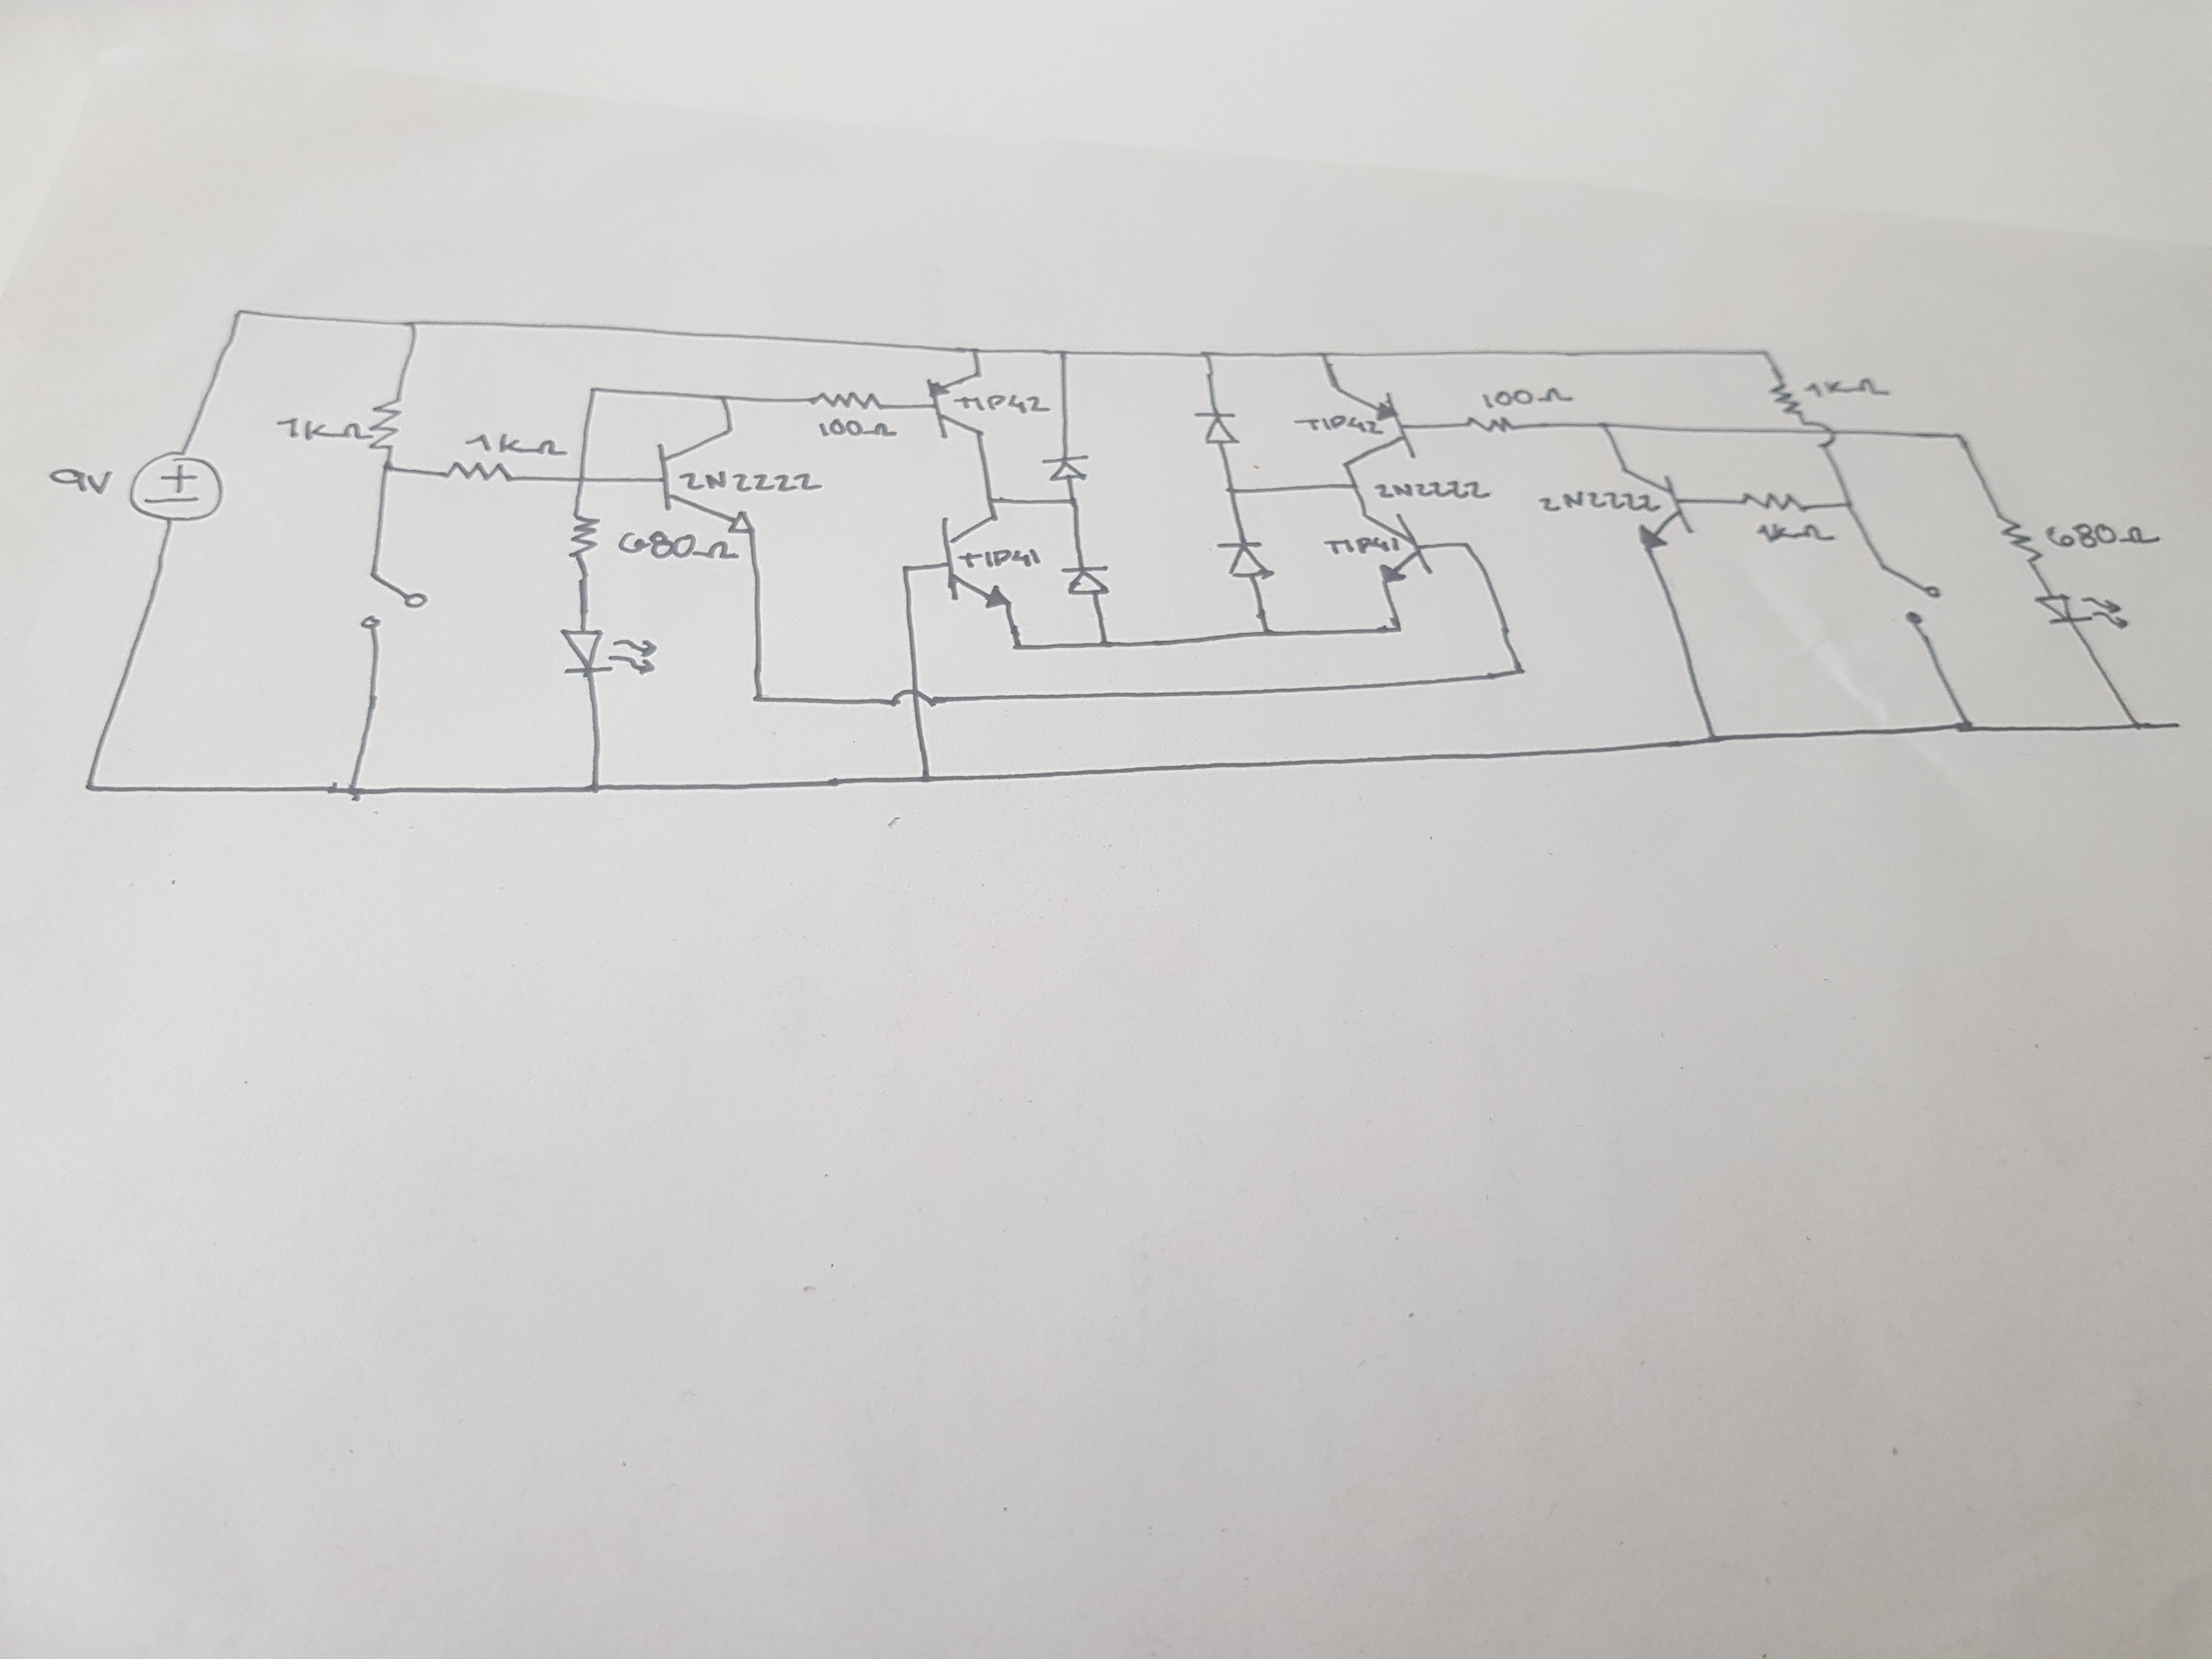crossover: (887, 685, 935, 714), (1804, 422, 1838, 451)
diode: (1212, 540, 1277, 582), (1057, 563, 1116, 601), (1190, 408, 1245, 448), (1038, 450, 1096, 484)
diode.light_emitting: (554, 624, 662, 680), (2029, 587, 2134, 633)
junction: (326, 775, 373, 819), (566, 774, 613, 807), (900, 762, 948, 793), (70, 762, 105, 802), (1946, 713, 1982, 742), (1689, 723, 1726, 751), (745, 685, 775, 711), (1501, 664, 1536, 685), (1947, 425, 1975, 448), (2120, 720, 2149, 741), (1090, 633, 1115, 657), (402, 312, 427, 335), (894, 561, 920, 582), (1454, 538, 1482, 558), (583, 380, 606, 403), (378, 458, 401, 481), (230, 303, 253, 326), (1219, 483, 1242, 504), (1005, 634, 1026, 657), (1381, 620, 1406, 640), (1254, 626, 1277, 645), (1597, 416, 1620, 434), (1197, 345, 1216, 364), (1838, 497, 1858, 514), (981, 491, 1001, 509), (571, 472, 592, 490), (1052, 345, 1071, 362), (1062, 493, 1082, 511), (714, 390, 733, 408), (1756, 345, 1777, 361), (1315, 349, 1332, 364), (968, 345, 984, 361), (1348, 479, 1364, 493)
resistor: (1994, 511, 2047, 568), (366, 394, 406, 453), (566, 509, 606, 563), (805, 389, 885, 415), (442, 460, 521, 486), (1738, 488, 1810, 516), (1768, 380, 1804, 422), (1461, 413, 1519, 437)
switch: (1874, 561, 1949, 634), (357, 568, 432, 640)
text: (611, 530, 738, 570), (2045, 519, 2165, 558), (676, 471, 829, 498), (1536, 486, 1665, 518), (463, 430, 568, 460), (273, 415, 376, 444), (1372, 476, 1491, 500), (953, 390, 1049, 420), (1804, 373, 1893, 404), (1750, 519, 1838, 551), (1289, 413, 1386, 441), (1320, 532, 1411, 559), (1477, 385, 1580, 410), (958, 545, 1047, 573), (42, 465, 118, 497), (815, 416, 902, 443)
transistor: (653, 427, 759, 538), (1615, 465, 1700, 556), (935, 518, 1019, 610), (1327, 385, 1418, 469), (1355, 511, 1439, 589), (925, 369, 993, 443)
voltage.dc: (120, 444, 233, 533)
